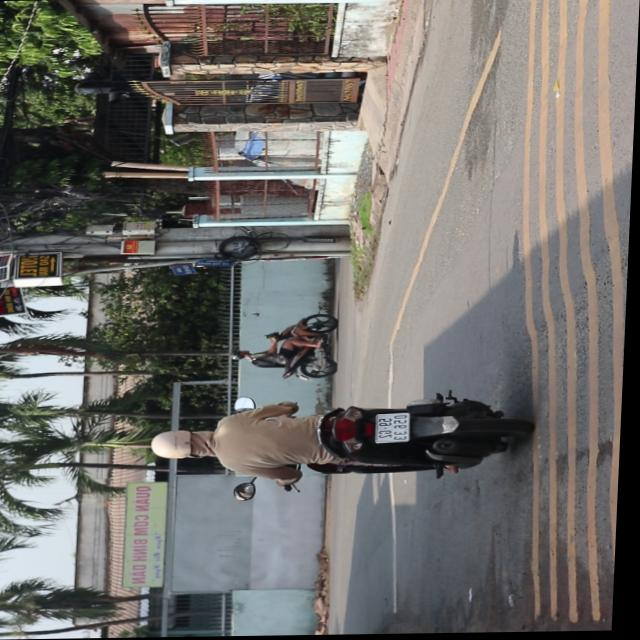helmet: (151, 426, 218, 460)
licenseplate: (150, 389, 526, 487)
nohelmet: (379, 413, 412, 443)
